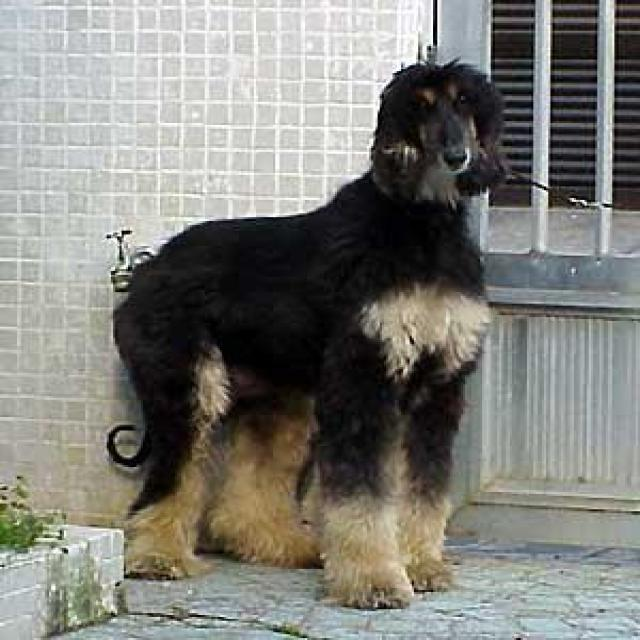afghan_hound: (111, 58, 503, 607)
